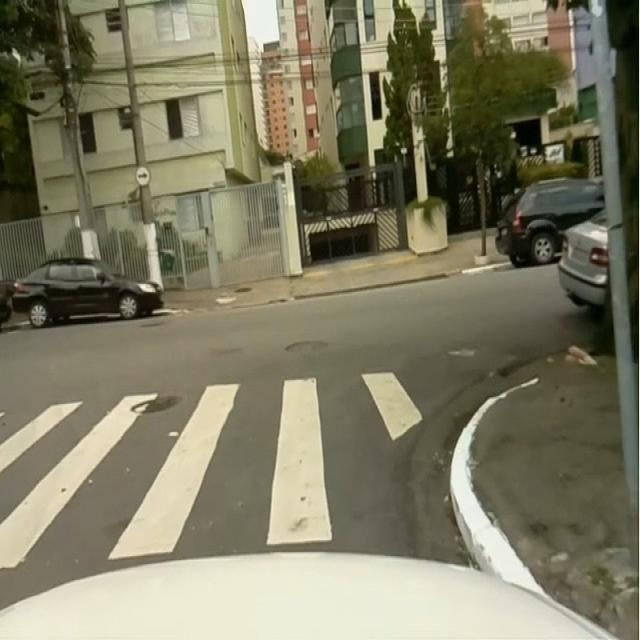car: (0, 552, 602, 640), (12, 260, 162, 327), (495, 181, 604, 265), (559, 210, 609, 306)
